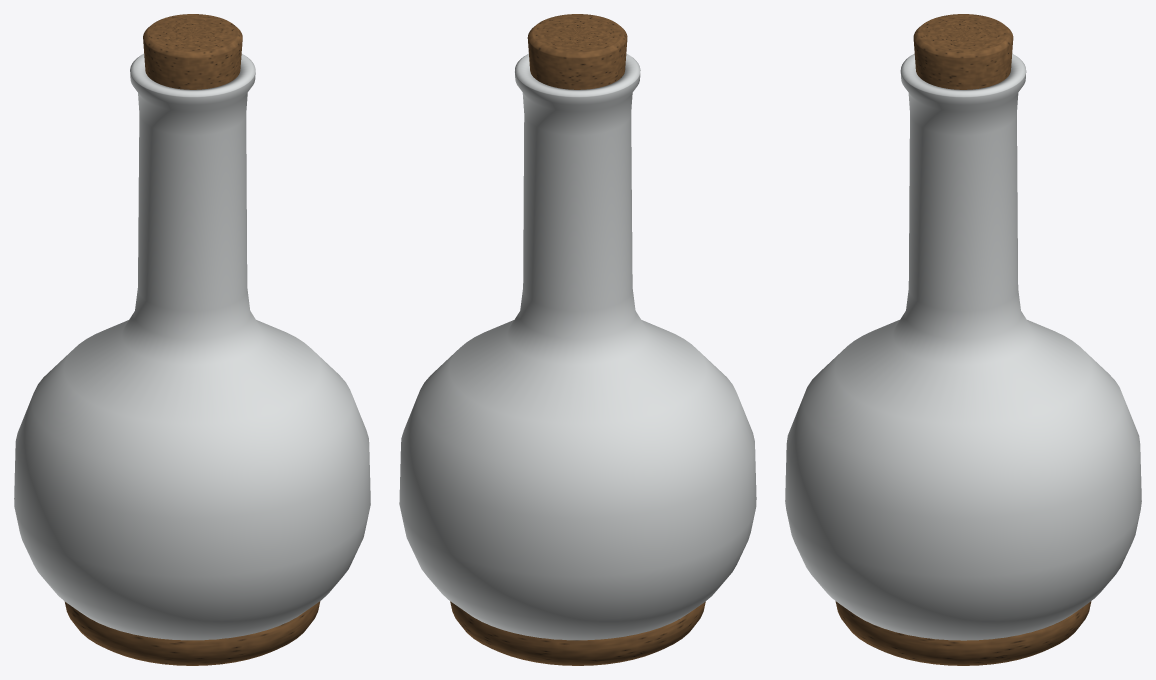
Rendered from bottle_roundflask.glb.
The picture shows the model from 3 angles, left to right: view 1: azimuth 30°, elevation 25°; view 2: azimuth 150°, elevation 25°; view 3: azimuth 270°, elevation 25°; orthographic projection.
Visible parts, largest first — view 1: Glass, Cap, Stand; view 2: Glass, Cap, Stand; view 3: Glass, Cap, Stand.
Boxes of the visible parts, x1,y1,x2,y2 form: Glass: (14,53,370,640); Cap: (143,14,242,89); Stand: (64,601,320,665); Glass: (399,53,756,640); Cap: (527,14,627,89); Stand: (450,601,705,665); Glass: (785,53,1141,640); Cap: (913,14,1013,89); Stand: (835,601,1091,665).
Bounding box in the file's own units: 0.0859 × 0.156 × 0.0858.
Materials: 4 (2 with a texture image).
